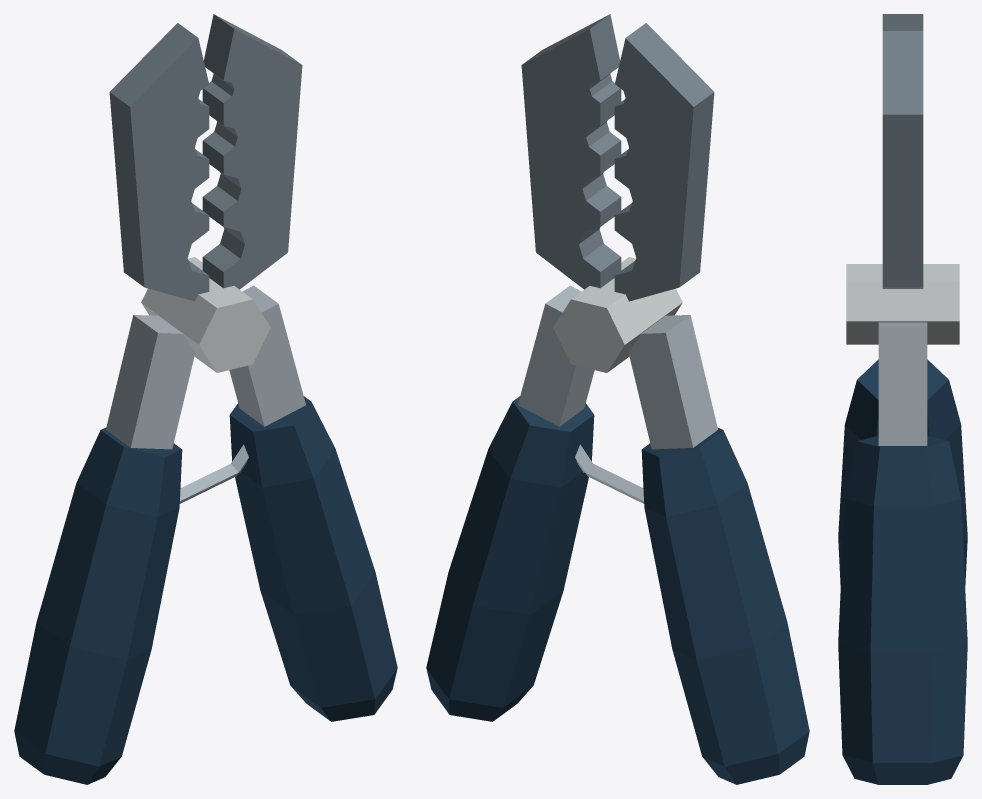
Rendered from b06_wire_stripper.glb.
3 renders of one model, left to right at view 1: azimuth 30°, elevation 25°; view 2: azimuth 150°, elevation 25°; view 3: azimuth 270°, elevation 25°, orthographic. The views are drawn at different scales.
Visible parts, largest first — view 1: b06_wire_stripper; view 2: b06_wire_stripper; view 3: b06_wire_stripper.
Boxes of the visible parts, box(x1,y1,x2,y2) form: b06_wire_stripper: box(14, 14, 397, 784); b06_wire_stripper: box(426, 14, 809, 784); b06_wire_stripper: box(838, 14, 967, 784).
Bounding box in the file's own units: 0.0982 × 0.1903 × 0.0321.
